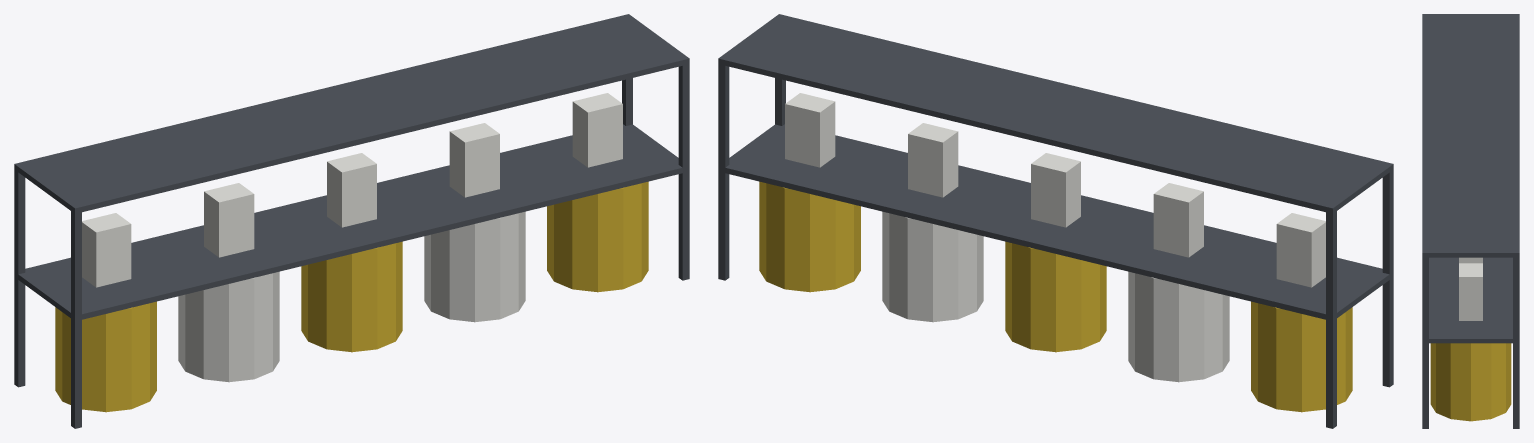
File: chemical shelf.glb
3 views of the same model, side by side, from view 1: azimuth 30°, elevation 25°; view 2: azimuth 150°, elevation 25°; view 3: azimuth 270°, elevation 25° (orthographic). The views are drawn at different scales.
Parts seen in each view (by area): view 1: chemical shelf; view 2: chemical shelf; view 3: chemical shelf.
Boxes of the visible parts, x1,y1,x2,y2 form: chemical shelf: (14,14,689,428); chemical shelf: (718,14,1393,428); chemical shelf: (1422,14,1519,428).
Size of the model in its own units: 3.5 by 1.2 by 0.6.
